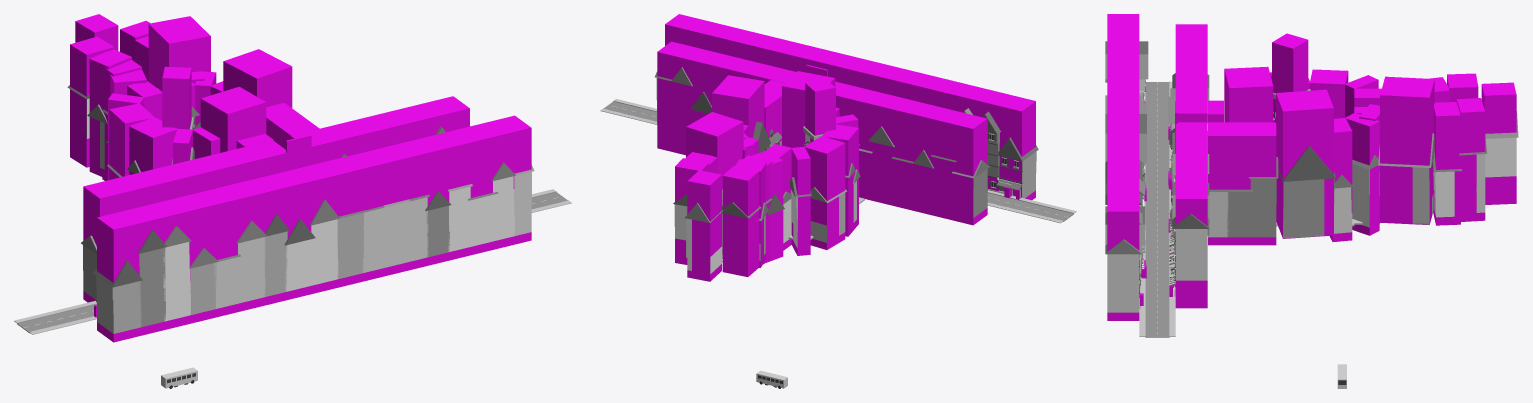
The model's file is lane.draco.glb.
The picture shows the model from 3 angles, left to right: view 1: azimuth 30°, elevation 25°; view 2: azimuth 150°, elevation 25°; view 3: azimuth 270°, elevation 25°; orthographic projection. The views are drawn at different scales.
Parts seen in each view (by area): view 1: col_buildings, bld_RS0, bld_RS1, bld_RS2, prop_road, bld_RS5, bld_RS8, bld_RS7, bld_RS9, bld_RS6, bld_RS10, bld_RS3 (+10 smaller); view 2: col_buildings, prop_road, bld_RS0, bld_RS1, bld_RN_W0, bld_top, bld_Q7_0, bld_L0, bld_C0, bld_Q0_0; view 3: col_buildings, prop_road, bld_Q2_0, bld_RS17, bld_RN_E6, bld_L2E0, bld_top, bld_L2, bld_C1, bld_L2E1, bld_L1, bld_Q1_0 (+5 smaller).
Boxes of the visible parts, x1,y1,x2,y2 form: col_buildings: (70, 14, 531, 342); bld_RS0: (93, 260, 142, 333); bld_RS1: (138, 229, 167, 327); bld_RS2: (163, 225, 191, 321); prop_road: (14, 189, 571, 334); bld_RS5: (236, 220, 267, 303); bld_RS8: (310, 199, 339, 285); bld_RS7: (284, 218, 315, 291); bld_RS9: (337, 210, 366, 279); bld_RS6: (264, 214, 289, 296); bld_RS10: (362, 206, 388, 272); bld_RS3: (189, 248, 218, 314); col_buildings: (657, 14, 1035, 281); prop_road: (600, 99, 1076, 223); bld_RS0: (996, 137, 1038, 198); bld_RS1: (982, 111, 1000, 192); bld_RN_W0: (952, 160, 989, 217); bld_top: (684, 202, 722, 273); bld_Q7_0: (810, 187, 847, 242); bld_L0: (673, 194, 687, 257); bld_C0: (790, 177, 811, 248); bld_Q0_0: (783, 191, 791, 243); col_buildings: (1107, 14, 1516, 320); prop_road: (1139, 81, 1175, 337); bld_Q2_0: (1278, 145, 1336, 238); bld_RS17: (1105, 239, 1142, 312); bld_RN_E6: (1169, 213, 1209, 296); bld_L2E0: (1249, 157, 1278, 237); bld_top: (1485, 111, 1518, 177); bld_L2: (1378, 133, 1434, 224); bld_C1: (1352, 155, 1378, 227); bld_L2E1: (1227, 189, 1253, 237); bld_L1: (1432, 149, 1461, 217); bld_Q1_0: (1334, 174, 1353, 233).
Size of the model in its own units: 150 by 90 by 103.
